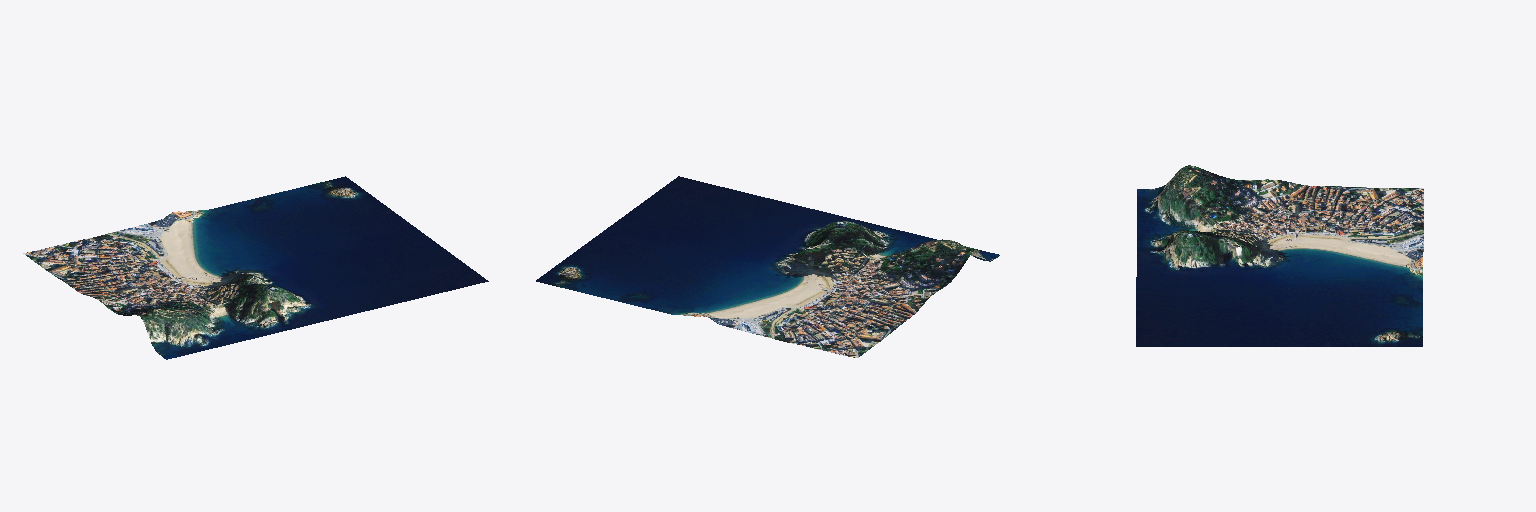
3 views of the same model, side by side, from view 1: azimuth 30°, elevation 25°; view 2: azimuth 150°, elevation 25°; view 3: azimuth 270°, elevation 25° (orthographic).
Visible parts, largest first — view 1: SketchUp.002_ID16.001; view 2: SketchUp.002_ID16.001; view 3: SketchUp.002_ID16.001.
Part boxes in pixels (left/top/right/bottom): SketchUp.002_ID16.001: left=23, top=176, right=488, bottom=359; SketchUp.002_ID16.001: left=536, top=176, right=999, bottom=357; SketchUp.002_ID16.001: left=1136, top=165, right=1423, bottom=346.
Bounding box in the file's own units: 933 × 67.25 × 719.
Materials: 1 (1 with a texture image).